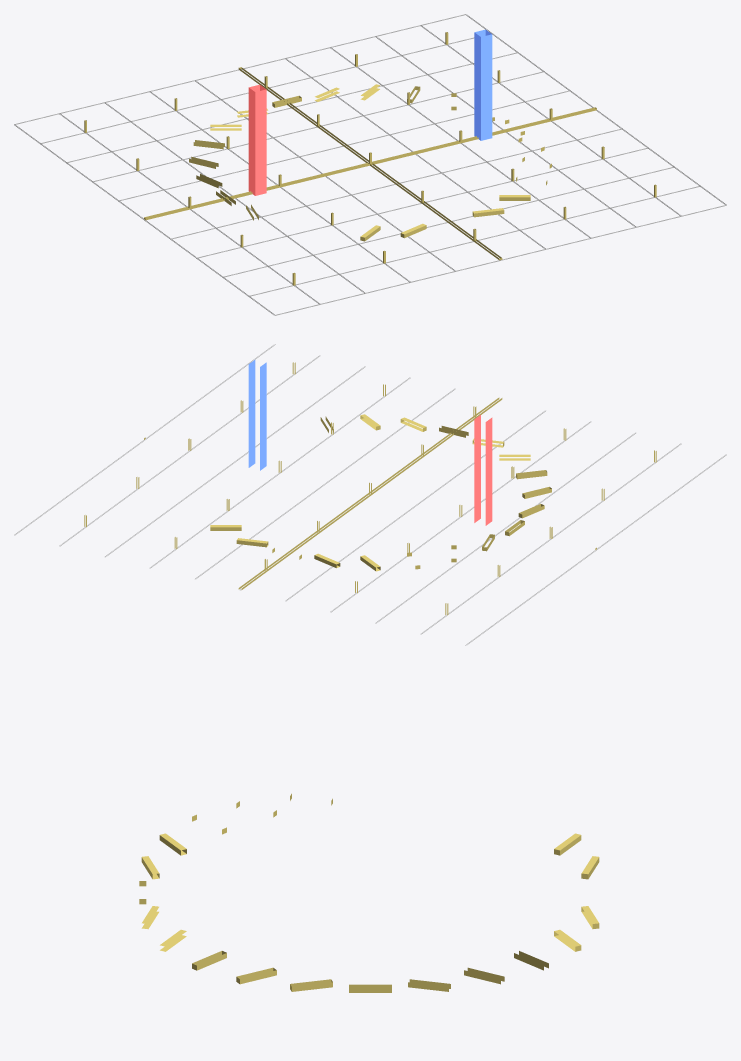
File: PartVII_HarmonicCore_v1.gltf
3 views of the same model, one above another, from view 1: azimuth 30°, elevation 25°; view 2: azimuth 150°, elevation 25°; view 3: azimuth 270°, elevation 25° (orthographic). The views are drawn at different scales.
Visible parts, largest first — view 1: Obelisk_Blue, Obelisk_Red, Axis_X, Axis_Z, GridX_10, GridX_0, GridX_9, GridX_6, GridX_7, GridX_1, GridX_3, GridX_4 (+7 smaller); view 2: Obelisk_Blue, Obelisk_Red, Axis_Z, GridZ_0, GridZ_10, GridZ_1, GridZ_7, GridZ_6, GridZ_8, GridZ_9; view 3: no part large enough to name.
Boxes of the visible parts, <box> form: Obelisk_Blue: <box>474,29,492,140</box>; Obelisk_Red: <box>248,84,266,195</box>; Axis_X: <box>144,107,596,220</box>; Axis_Z: <box>238,67,502,260</box>; GridX_10: <box>275,205,726,315</box>; GridX_0: <box>14,14,465,124</box>; GridX_9: <box>249,186,700,296</box>; GridX_6: <box>171,128,621,239</box>; GridX_7: <box>197,147,647,258</box>; GridX_1: <box>40,37,474,143</box>; GridX_3: <box>92,71,543,181</box>; GridX_4: <box>118,90,569,200</box>; Obelisk_Blue: <box>248,360,266,470</box>; Obelisk_Red: <box>474,415,492,525</box>; Axis_Z: <box>238,397,502,589</box>; GridZ_0: <box>465,454,726,645</box>; GridZ_10: <box>14,344,275,535</box>; GridZ_1: <box>420,443,681,634</box>; GridZ_7: <box>149,377,410,568</box>; GridZ_6: <box>195,388,455,579</box>; GridZ_8: <box>105,366,365,557</box>; GridZ_9: <box>59,355,320,546</box>.
Bounding box in the file's own units: 10.02 × 2.21 × 10.02.
